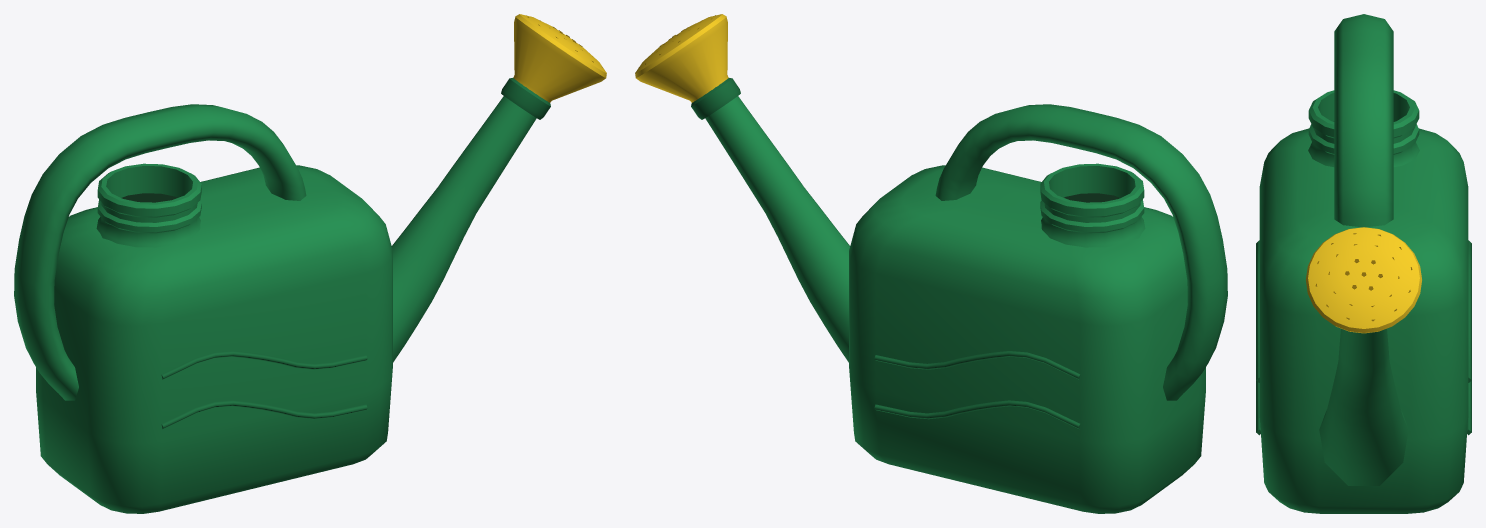
Rendered from item-20.glb.
The picture shows the model from 3 angles, left to right: view 1: azimuth 30°, elevation 25°; view 2: azimuth 150°, elevation 25°; view 3: azimuth 270°, elevation 25°; orthographic projection. The views are drawn at different scales.
Visible parts, largest first — view 1: body, handle, spout, neck, rose, wave.001, wave, collar; view 2: body, handle, spout, neck, rose, wave.003, wave.002, collar; view 3: body, handle, spout, rose, neck, wave.001, wave.003.
Part boxes in pixels (x1,y1,x2,y2): body: (36, 165, 392, 513); handle: (14, 104, 306, 400); spout: (391, 96, 536, 362); neck: (96, 163, 201, 247); rose: (513, 14, 606, 102); wave.001: (161, 351, 367, 379); wave: (161, 400, 367, 429); collar: (501, 78, 550, 119); body: (849, 165, 1205, 513); handle: (935, 104, 1227, 400); spout: (705, 96, 850, 362); neck: (1040, 163, 1145, 247); rose: (635, 14, 728, 102); wave.003: (874, 351, 1080, 379); wave.002: (874, 400, 1080, 429); collar: (691, 78, 740, 119); body: (1259, 128, 1468, 513); handle: (1334, 14, 1393, 227); spout: (1319, 328, 1408, 485); rose: (1306, 227, 1421, 333); neck: (1308, 90, 1419, 166); wave.001: (1256, 240, 1259, 382); wave.003: (1468, 240, 1471, 382).
Bounding box in the file's own units: 0.4649 × 0.2764 × 0.1428.
